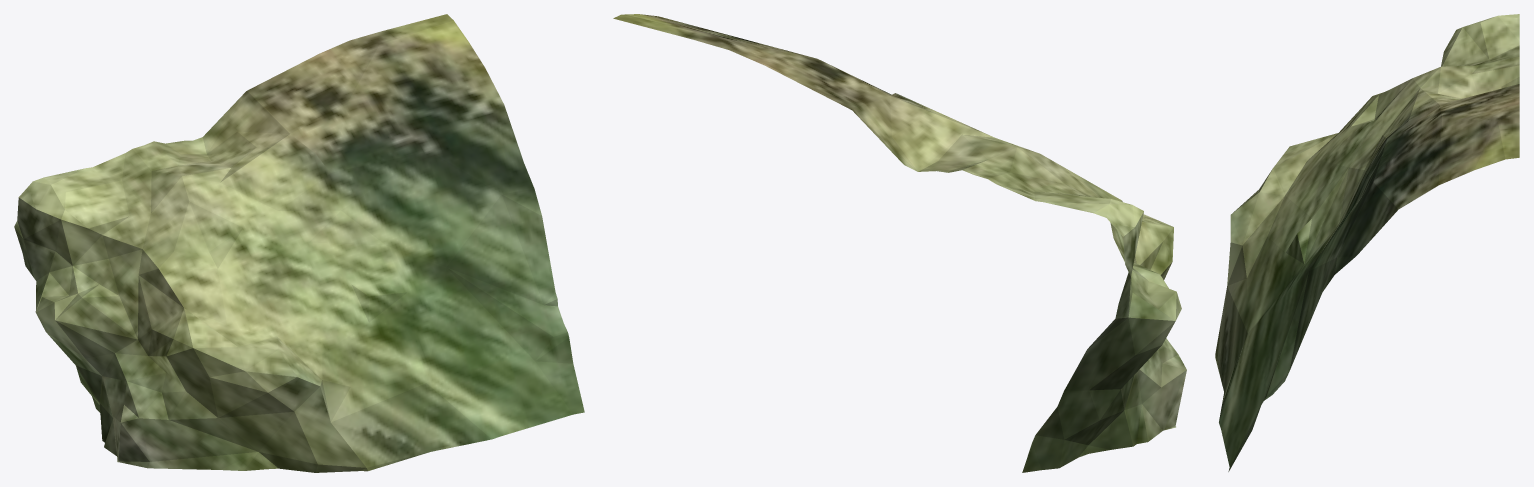
The picture shows the model from 3 angles, left to right: view 1: azimuth 30°, elevation 25°; view 2: azimuth 150°, elevation 25°; view 3: azimuth 270°, elevation 25°; orthographic projection. The views are drawn at different scales.
Size of the model in its own units: 7.08 by 4.56 by 3.99.
Materials: 1 (1 with a texture image).
